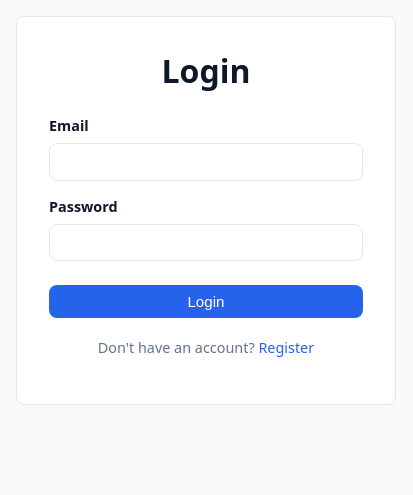
Login page › shows the API error message on failed login
Type "a@b.com" into the field labelled "Email".
click(206, 162); type("a@b.com")  # box x1=49 y1=143 x2=363 y2=181
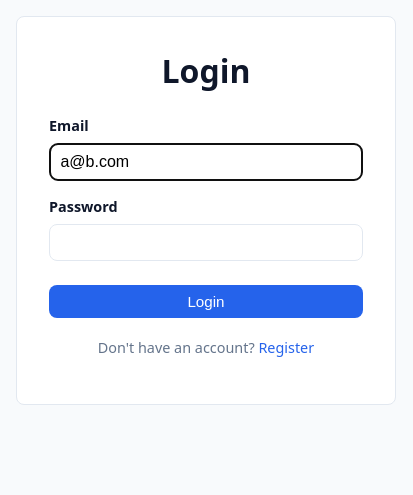
Type "wrongpass" into the password field labelled "Password".
click(206, 242); type("wrongpass")  # box x1=49 y1=224 x2=363 y2=261
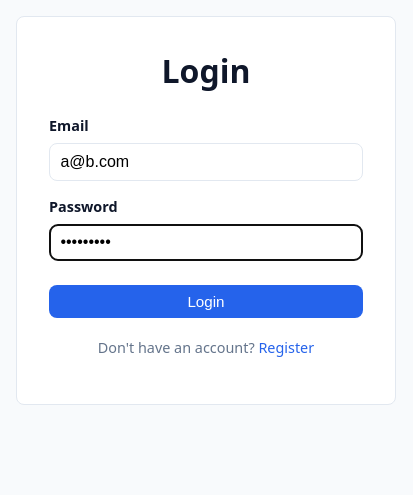
Click the button "Login".
click(206, 302)  # box x1=49 y1=285 x2=363 y2=318
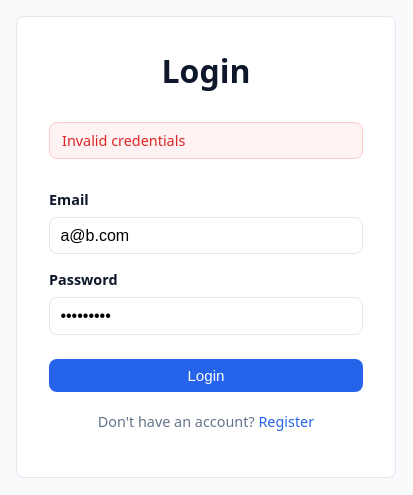
Expected: the text "Invalid credentials" is shown, x1=49 y1=122 x2=363 y2=159
